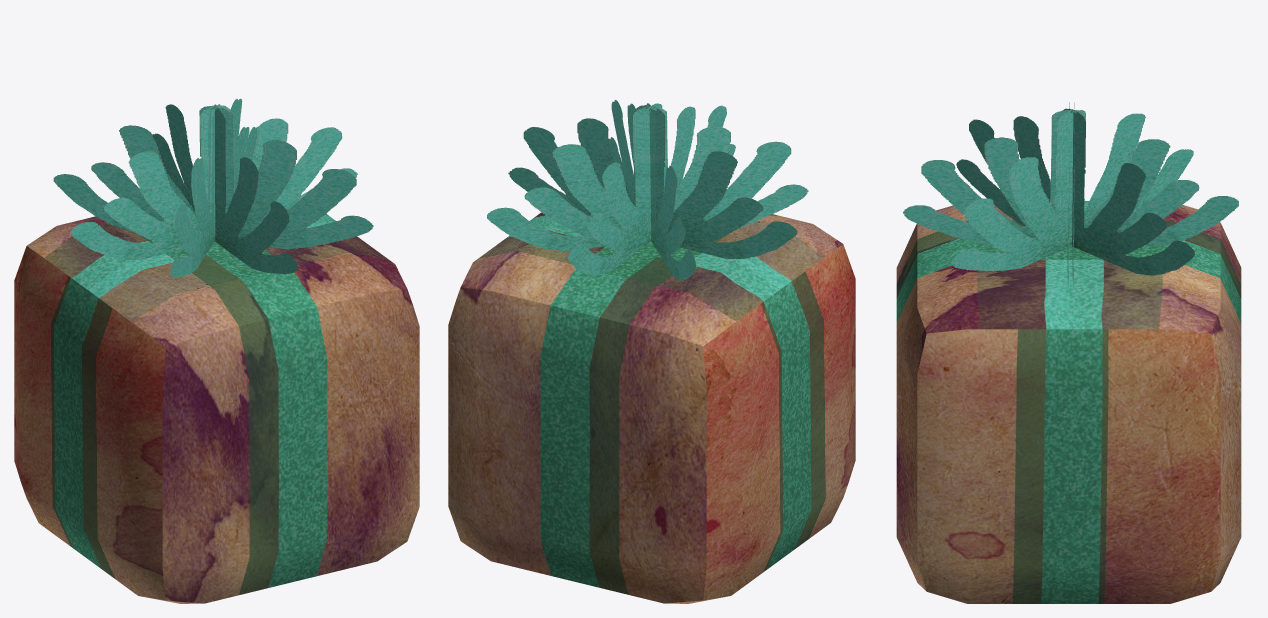
Rendered from Gift.fbx.
3 renders of one model, left to right at view 1: azimuth 30°, elevation 25°; view 2: azimuth 150°, elevation 25°; view 3: azimuth 270°, elevation 25°, orthographic. The views are drawn at different scales.
Parts seen in each view (by area): view 1: Gift; view 2: Gift; view 3: Gift.
Part boxes in pixels (x1,y1,x2,y2): Gift: [14, 98, 419, 603]; Gift: [448, 100, 855, 603]; Gift: [896, 102, 1241, 603].
Size of the model in its own units: 26.83 by 37.37 by 26.84.
